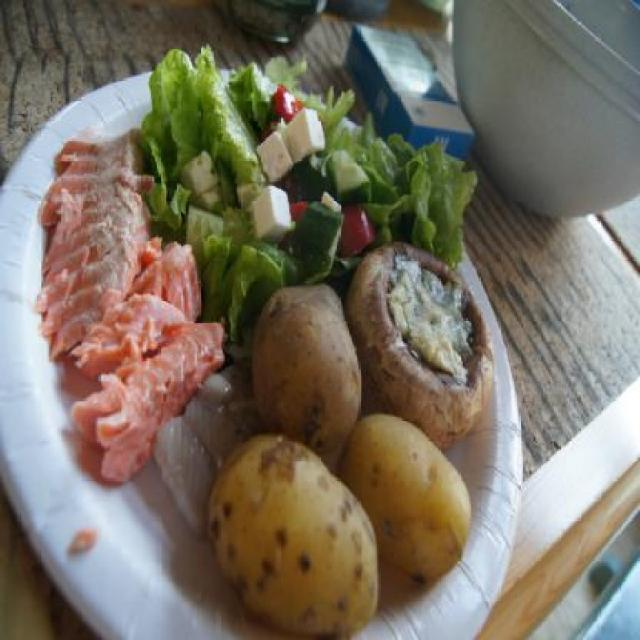Potato: (208, 430, 380, 639), (346, 414, 471, 580), (254, 285, 364, 458)
